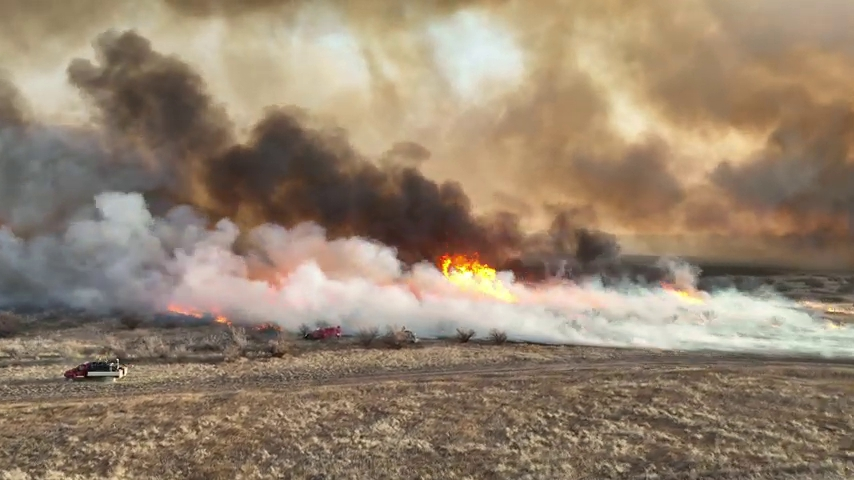forest_fire: (439, 254, 515, 301), (213, 313, 231, 324)
